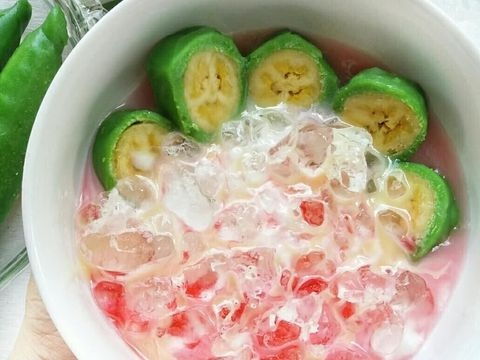pisang_ijo: (158, 15, 245, 149)
